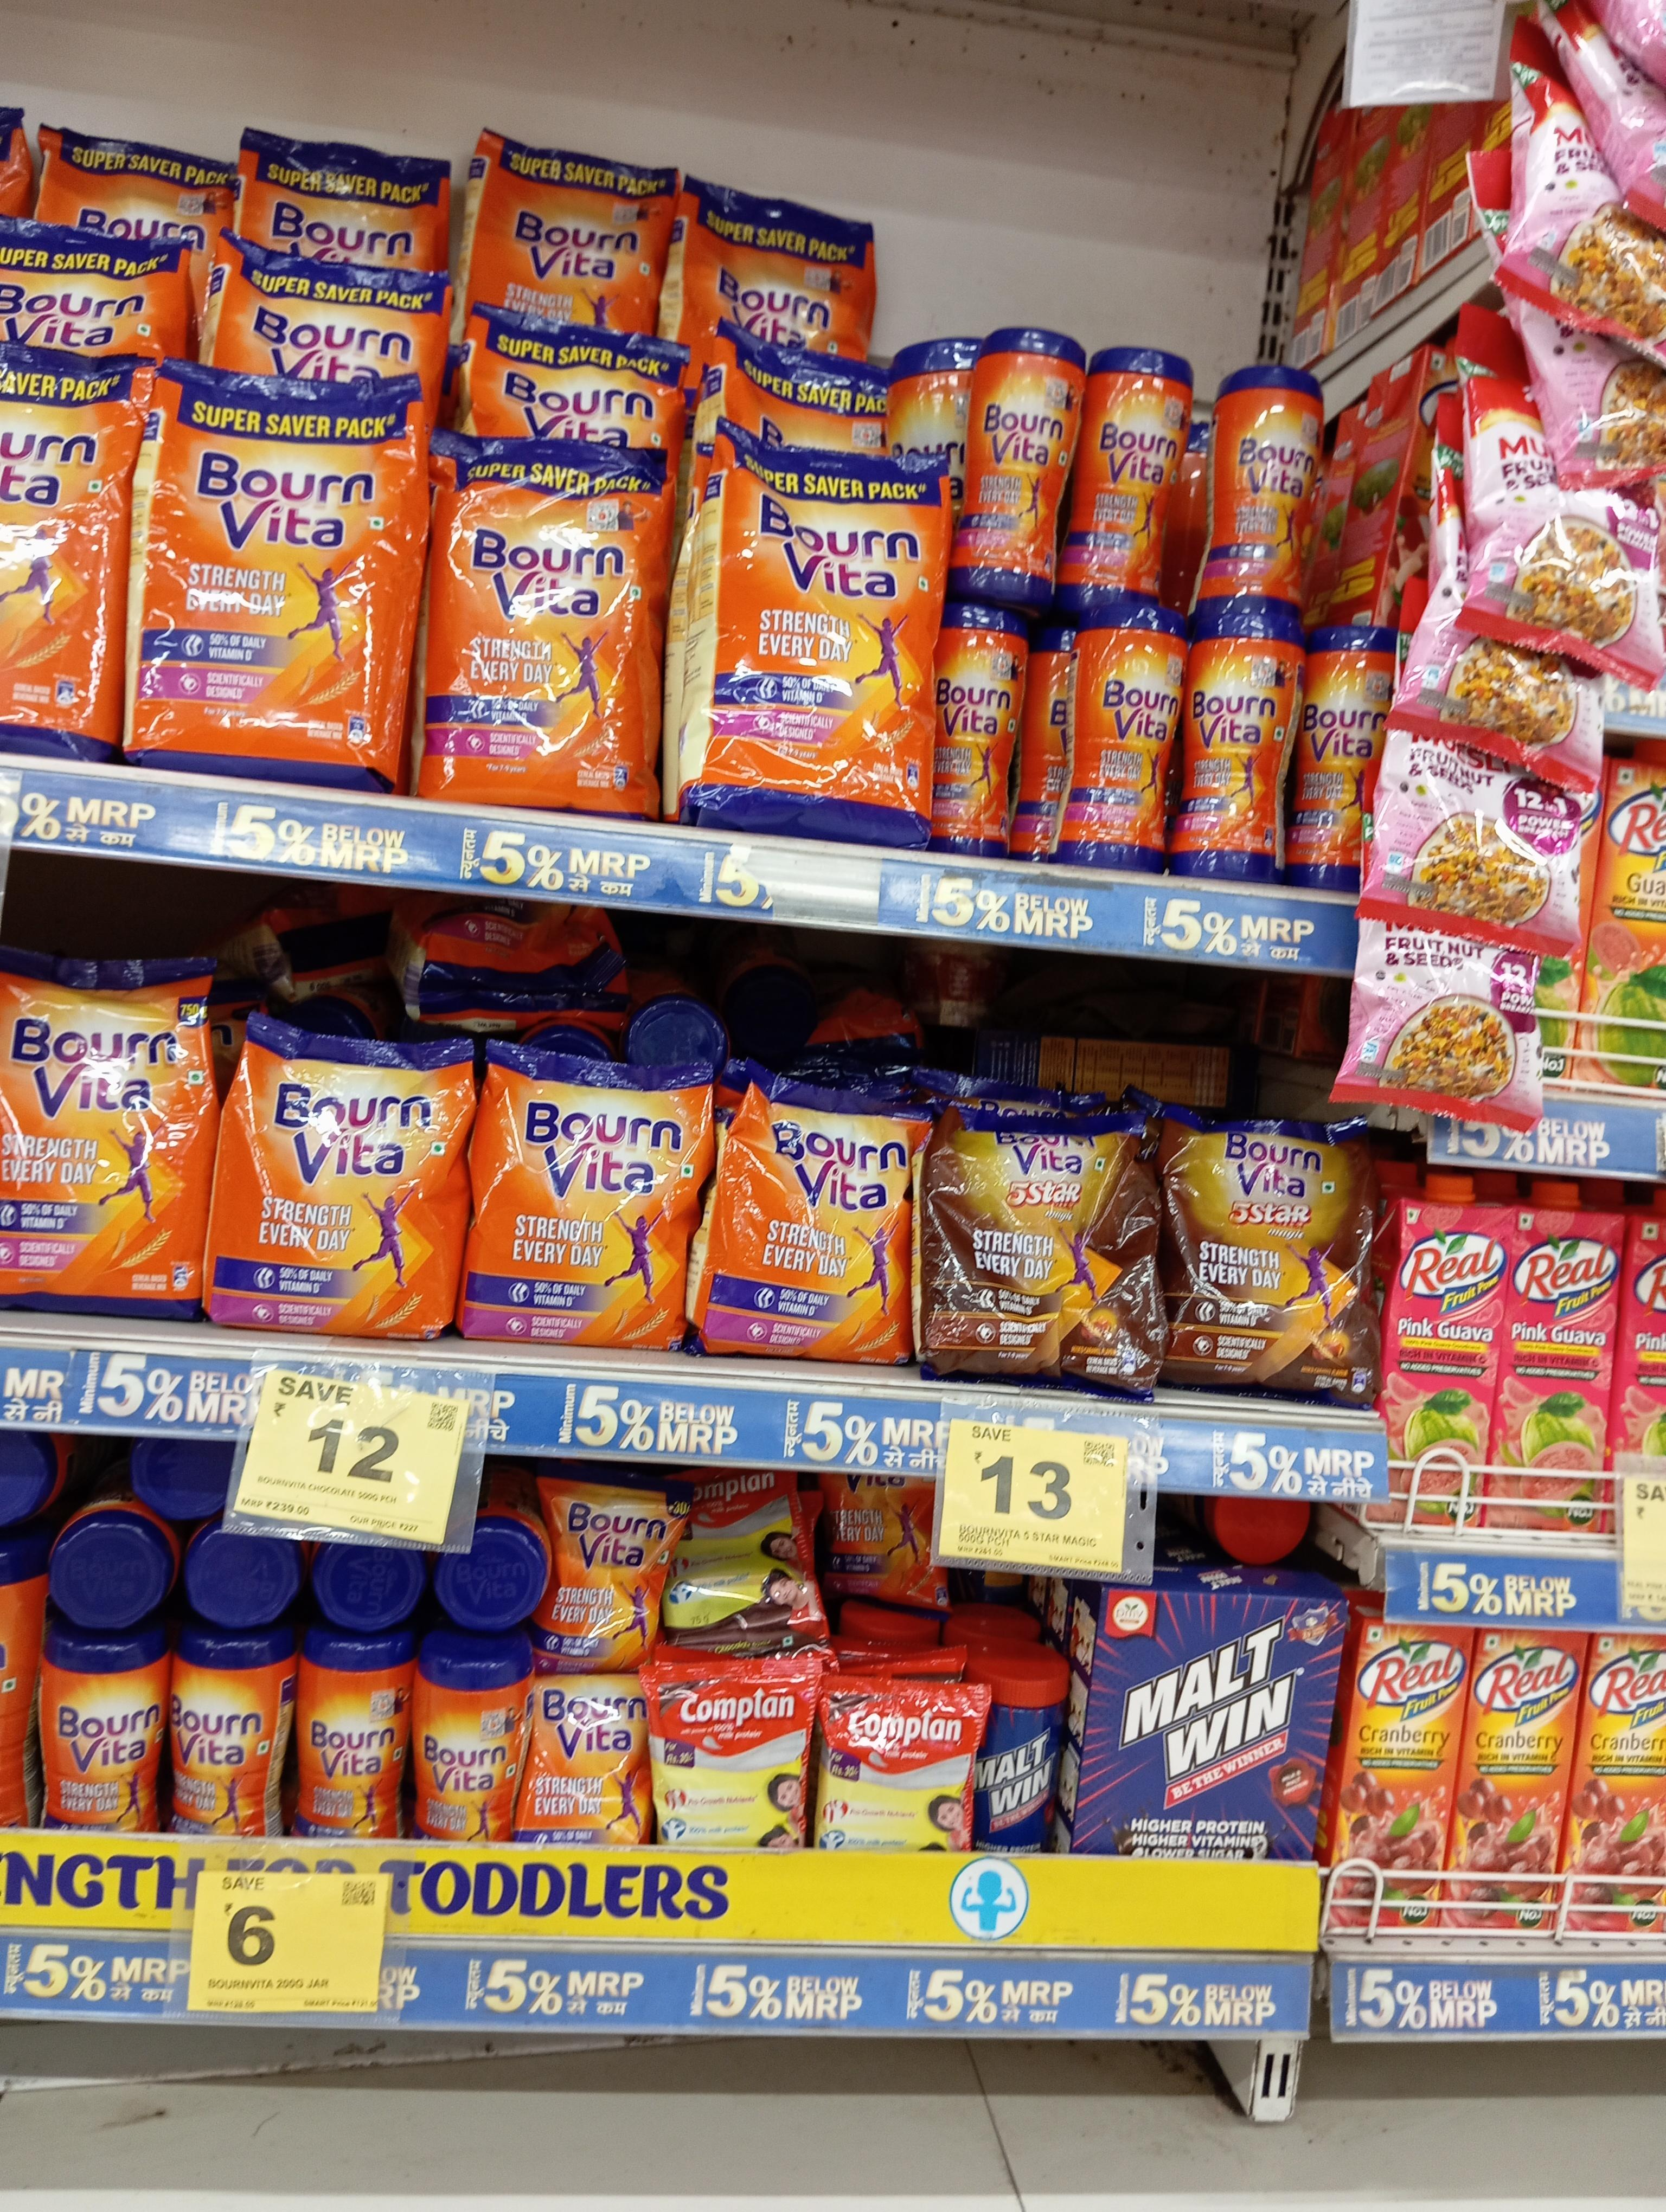BOURN_VITA_200_G_JAR: (45, 1624, 163, 1843), (299, 1624, 411, 1841), (168, 1626, 278, 1840), (415, 1635, 521, 1845)
BOURN_VITA_500_G_JAR: (1067, 607, 1183, 873), (1185, 600, 1288, 888), (1074, 339, 1186, 603), (963, 327, 1066, 595), (1215, 367, 1325, 595), (1299, 623, 1386, 892), (935, 598, 1026, 857)
BOURN_VITA_500_G_POUCH: (233, 1026, 467, 1338), (478, 1051, 690, 1355), (711, 1091, 919, 1359)
BOURN_VITA_750_G_POUCH: (0, 949, 203, 1318)
BOURN_VITA_75_G_POUCH: (542, 1485, 674, 1670), (523, 1677, 649, 1847)
BOURN_VITA_FIVE_STAR_MAGIC_500_G_POUCH: (931, 1117, 1157, 1376), (1188, 1103, 1377, 1395)
